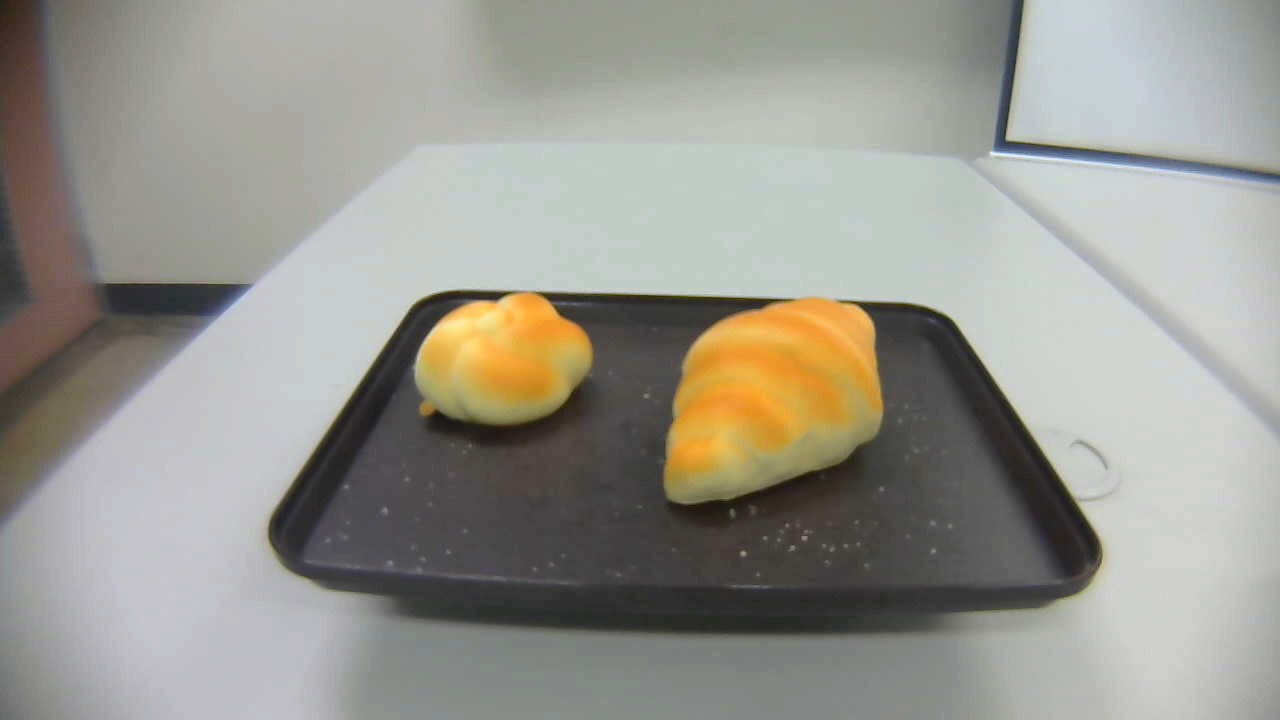croissant: (662, 295, 883, 507)
twist bread: (413, 291, 592, 426)
